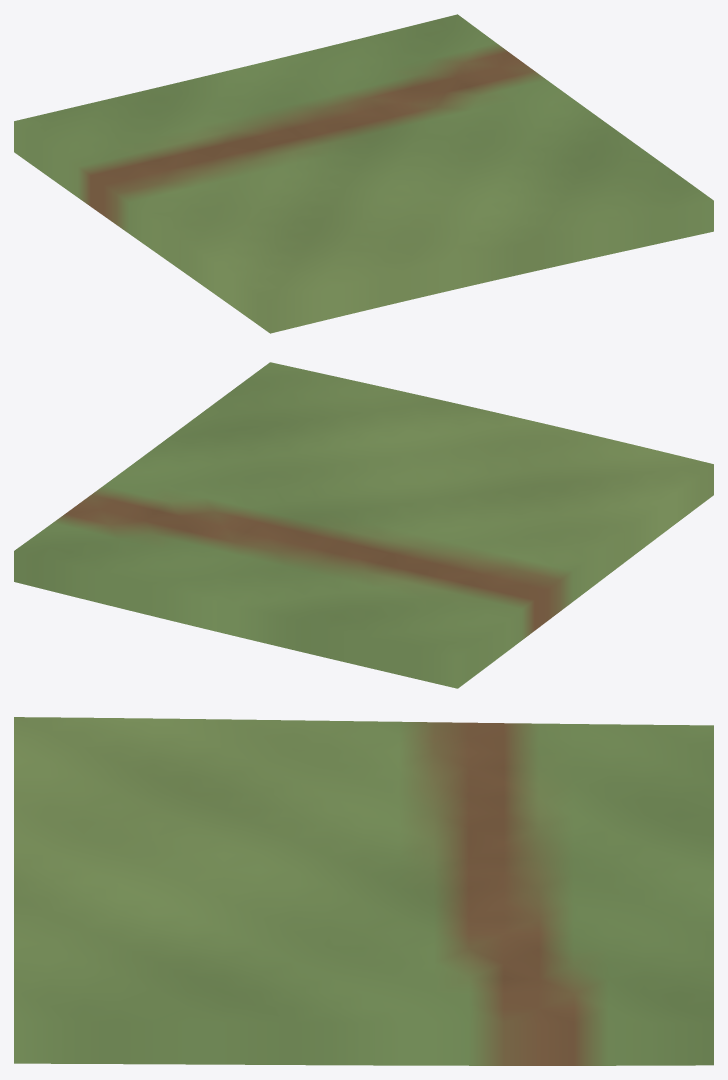
The picture shows the model from 3 angles, top to bottom: view 1: azimuth 30°, elevation 25°; view 2: azimuth 150°, elevation 25°; view 3: azimuth 270°, elevation 25°; orthographic projection. The views are drawn at different scales.
Visible parts, largest first — view 1: terrain; view 2: terrain; view 3: terrain.
Part boxes in pixels (x1,y1,x2,y2): terrain: (14, 14, 713, 333); terrain: (14, 362, 713, 688); terrain: (14, 717, 713, 1065).
Bounding box in the file's own units: 30 × 2.51 × 30.
